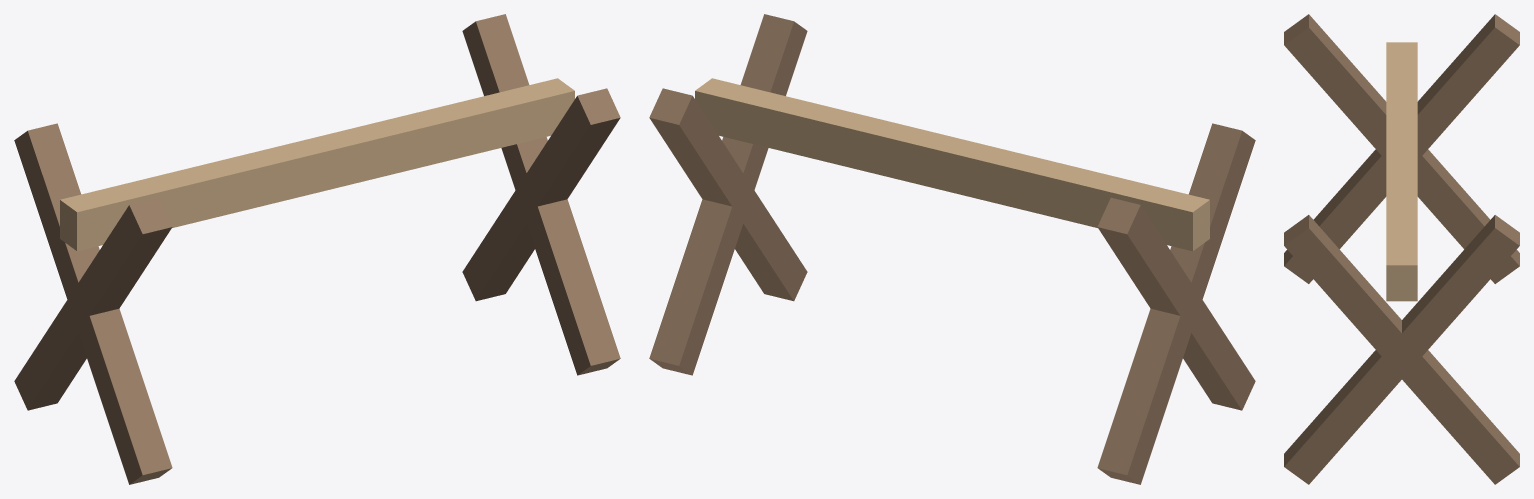
File: feudal-japan-castle-town-barricade-trestle-300baf1c__26524.glb
The picture shows the model from 3 angles, left to right: view 1: azimuth 30°, elevation 25°; view 2: azimuth 150°, elevation 25°; view 3: azimuth 270°, elevation 25°; orthographic projection. The views are drawn at different scales.
Visible parts, largest first — view 1: barricade-trestle; view 2: barricade-trestle; view 3: barricade-trestle.
Part boxes in pixels (left/top/right/bottom): barricade-trestle: left=14, top=14, right=620, bottom=484; barricade-trestle: left=649, top=14, right=1255, bottom=484; barricade-trestle: left=1284, top=14, right=1519, bottom=484.
Bounding box in the file's own units: 2 × 1.07 × 0.8938.
